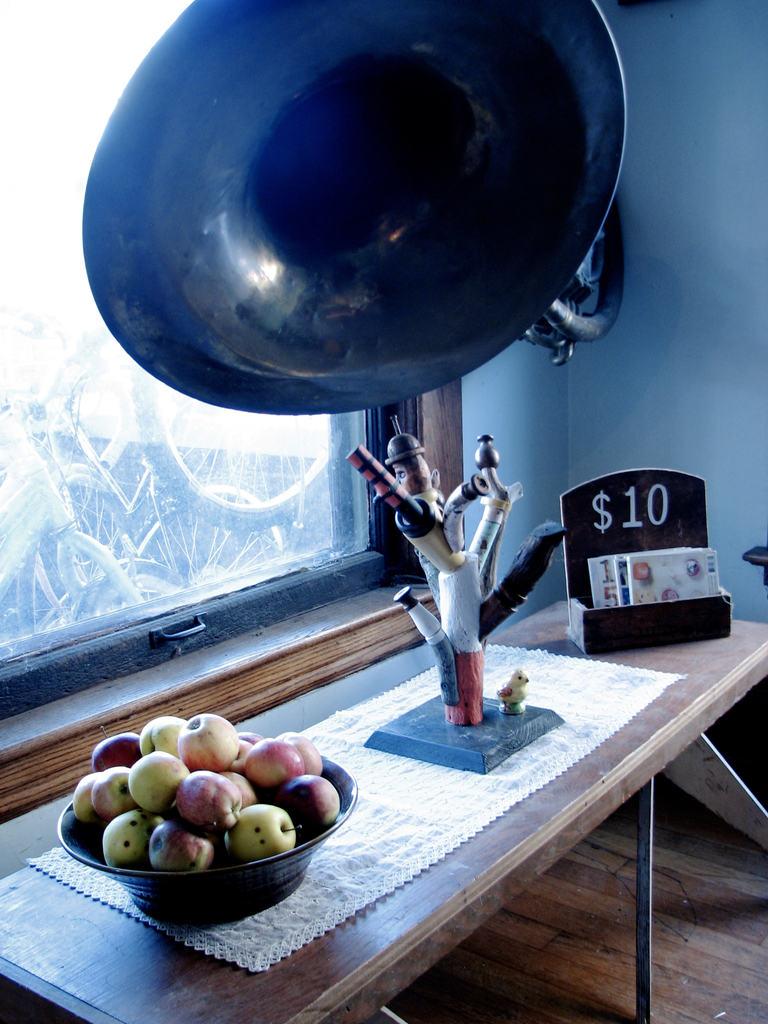Apple: (66, 712, 343, 871), (228, 803, 303, 860)
